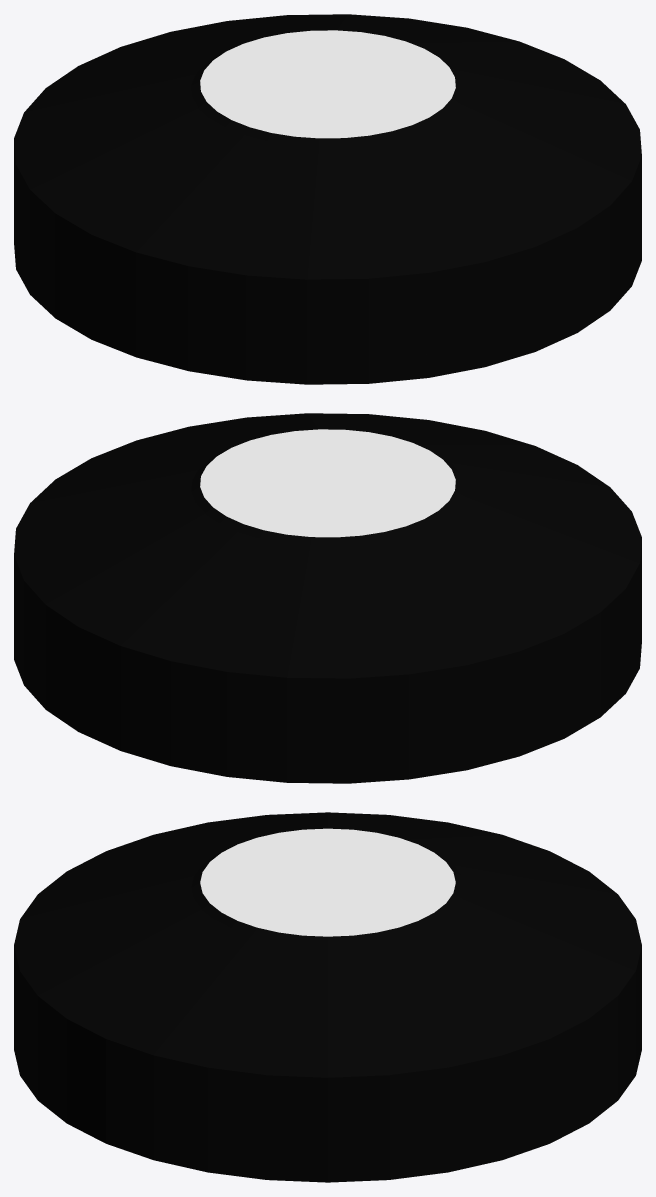
File: tap_note.glb
3 renders of one model, top to bottom at view 1: azimuth 30°, elevation 25°; view 2: azimuth 150°, elevation 25°; view 3: azimuth 270°, elevation 25°, orthographic.
Parts seen in each view (by area): view 1: Cylinder; view 2: Cylinder; view 3: Cylinder.
Boxes of the visible parts, x1,y1,x2,y2 form: Cylinder: [14, 14, 641, 384]; Cylinder: [14, 413, 641, 783]; Cylinder: [14, 812, 641, 1182].
Bounding box in the file's own units: 2 × 0.5877 × 2.
Materials: 1 (1 with a texture image).
